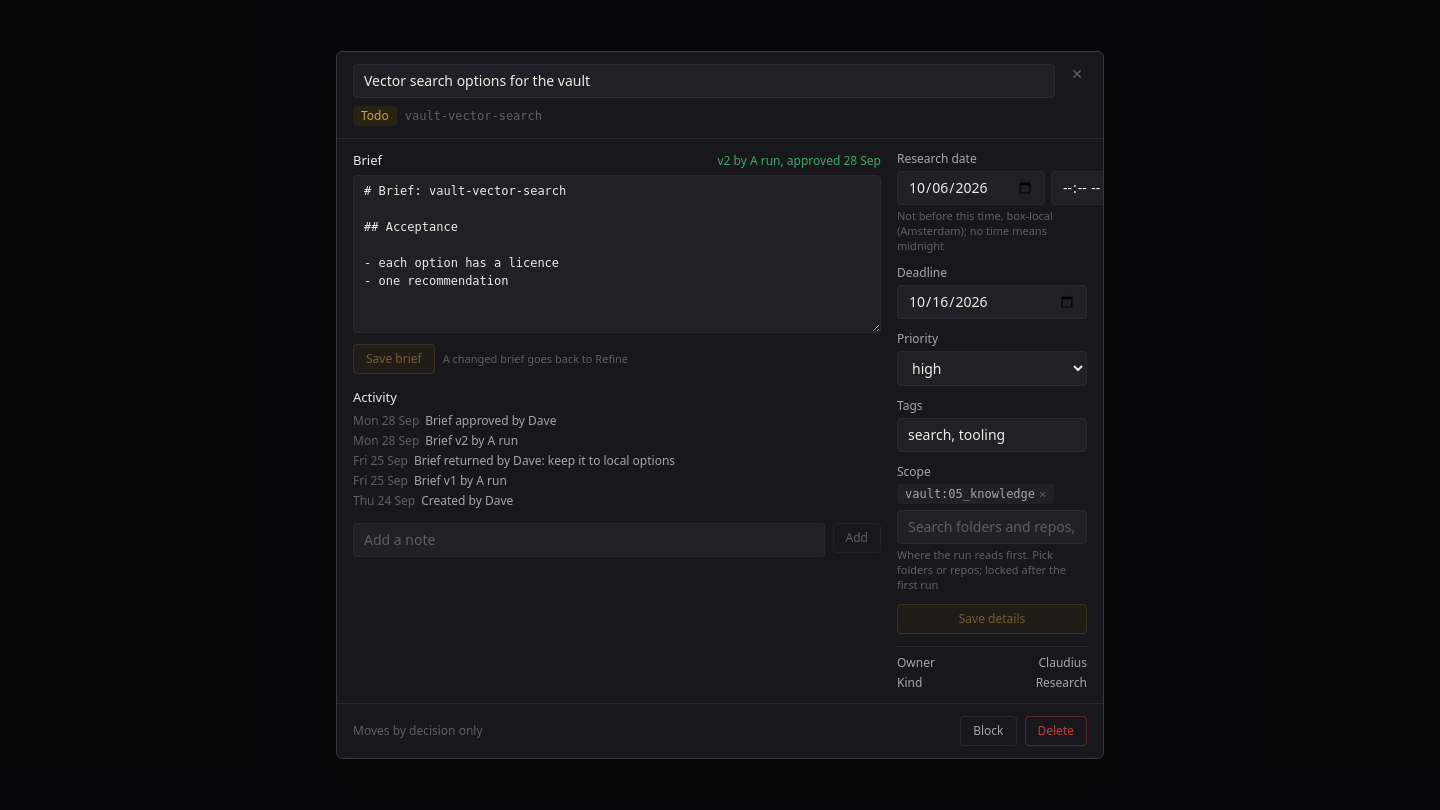
CardPopup writes › shows a stale refusal from the seam
Select "low" in the dropdown named "Priority" at (992, 369), box [897,351,1087,386]
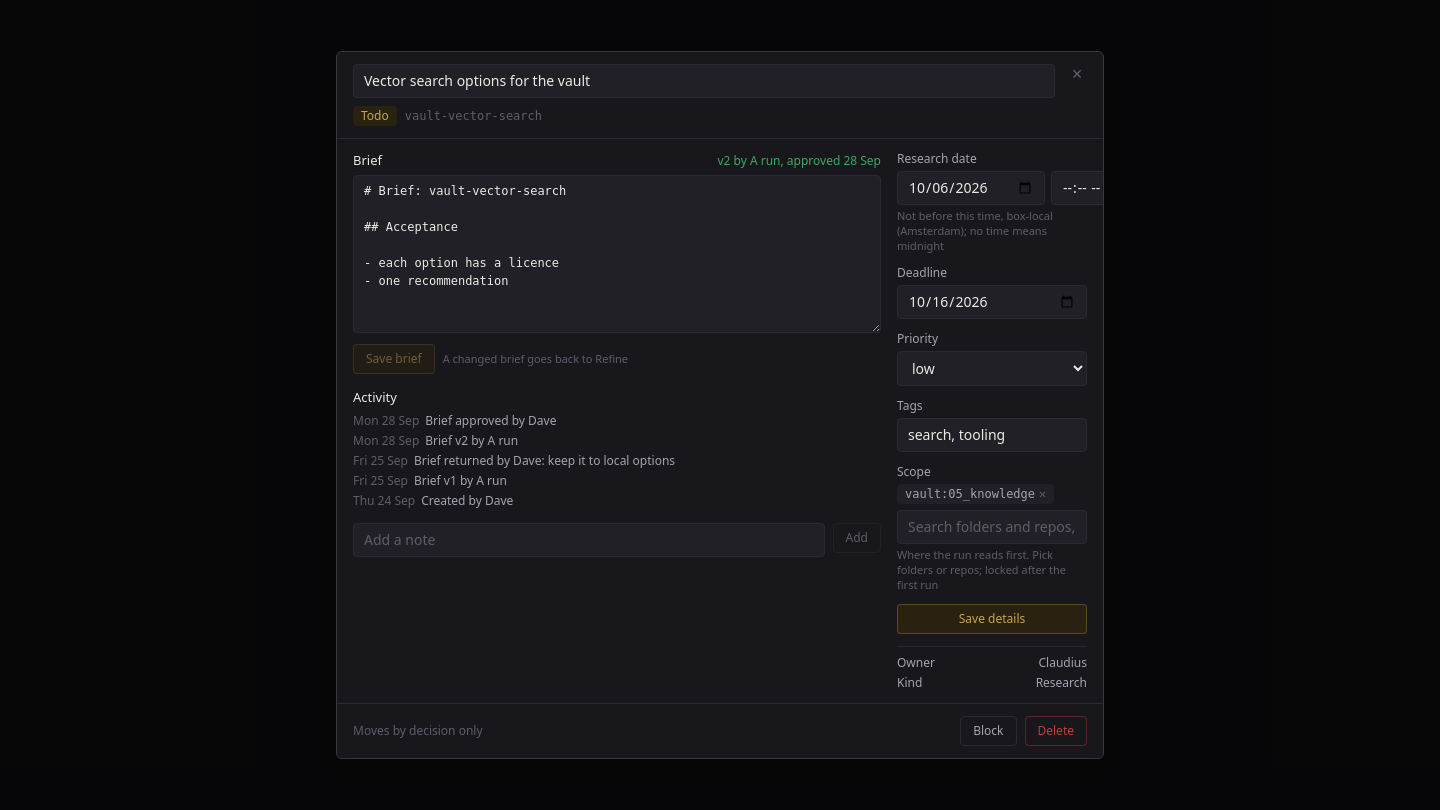
Click the button "Save details" at (992, 619), box [897,604,1087,634]
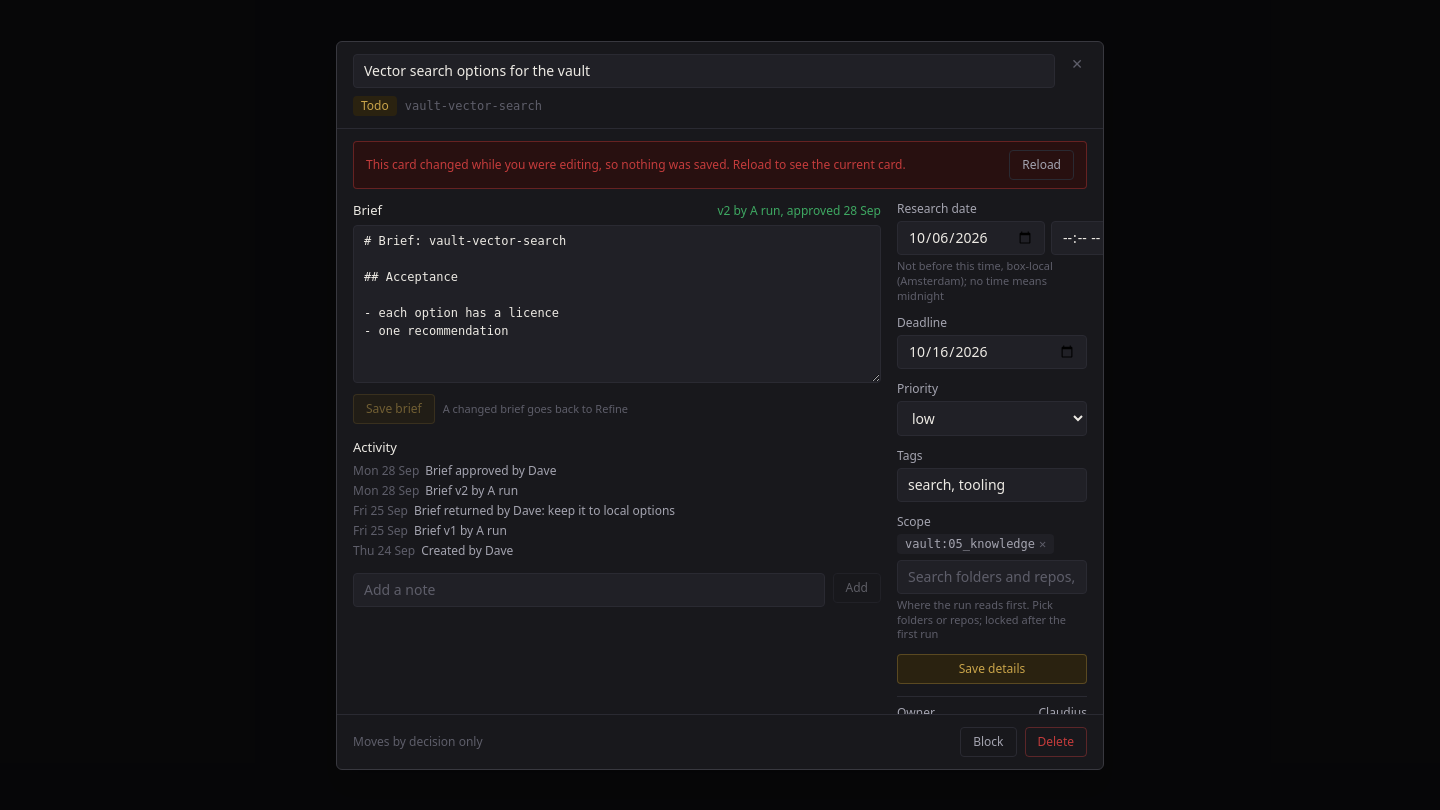
Now the message shows "changed while you were editing", box [366,156,906,172]
